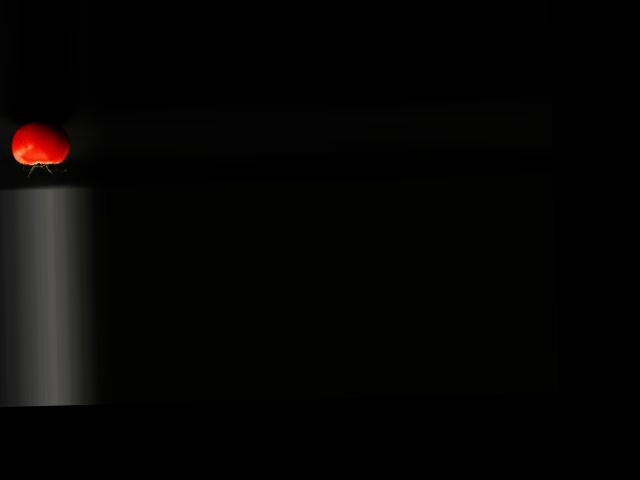tomato: (9, 120, 69, 165)
